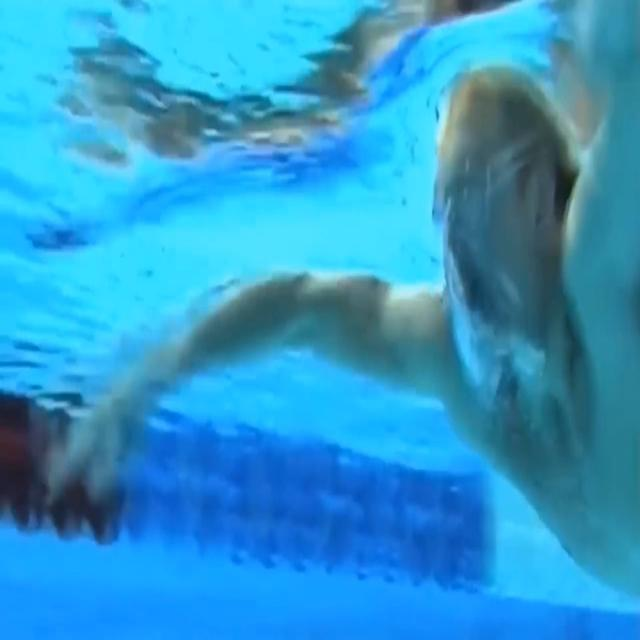Swimming: (184, 70, 640, 604)
